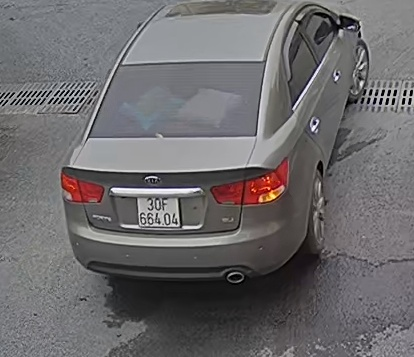vehicle plate: (130, 192, 183, 227)
